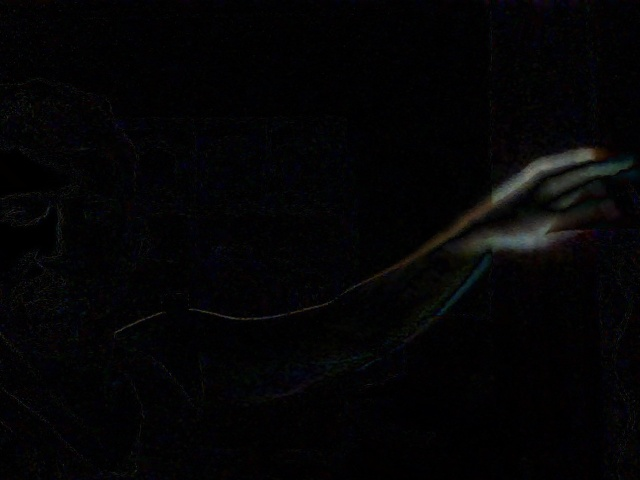arm_fo: (327, 143, 635, 353)
